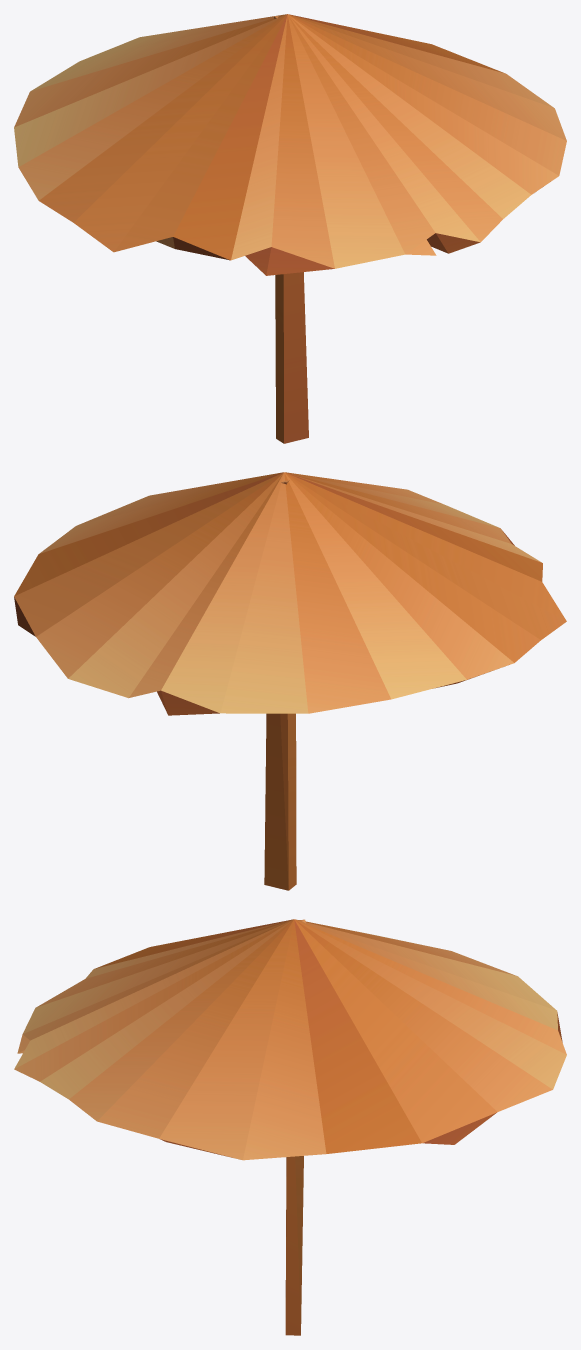
Rendered from GL-Manmade-10-LOD2.fbx.
3 views of the same model, one above another, from view 1: azimuth 30°, elevation 25°; view 2: azimuth 150°, elevation 25°; view 3: azimuth 270°, elevation 25° (orthographic). The views are drawn at different scales.
Parts seen in each view (by area): view 1: GL_Manmade_10; view 2: GL_Manmade_10; view 3: GL_Manmade_10.
Part boxes in pixels (<box>): GL_Manmade_10: <box>14,14,566,443</box>; GL_Manmade_10: <box>14,472,566,890</box>; GL_Manmade_10: <box>14,919,566,1335</box>.
Bounding box in the file's own units: 1.36 × 1.15 × 1.41.
